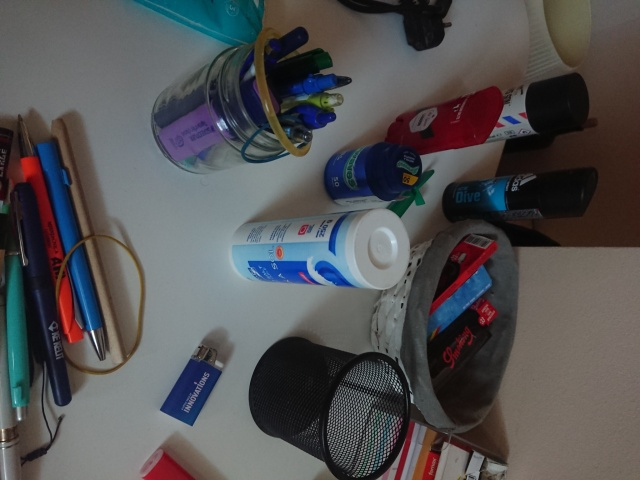Solana Pag Fine Sea Salt 250g: (225, 207, 413, 292)
